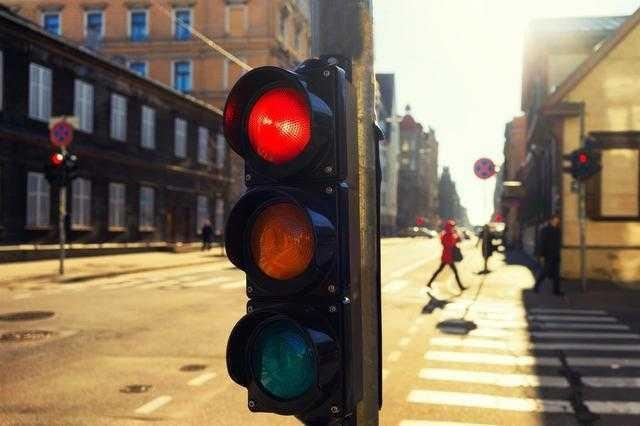red: (224, 62, 344, 405), (228, 63, 338, 190)
